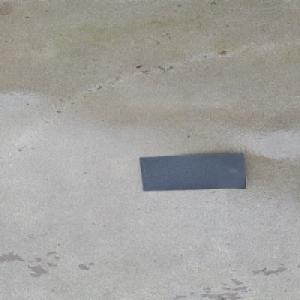PaintChip: (138, 152, 246, 192)
